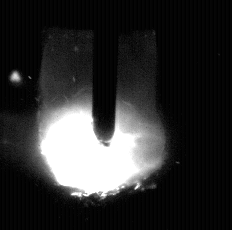arame: (93, 0, 117, 147)
poca: (38, 0, 166, 230)
